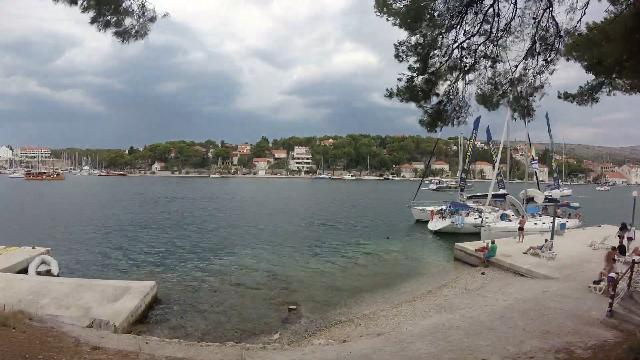Freighter: (20, 162, 68, 184)
Sailboat: (6, 166, 27, 184)
